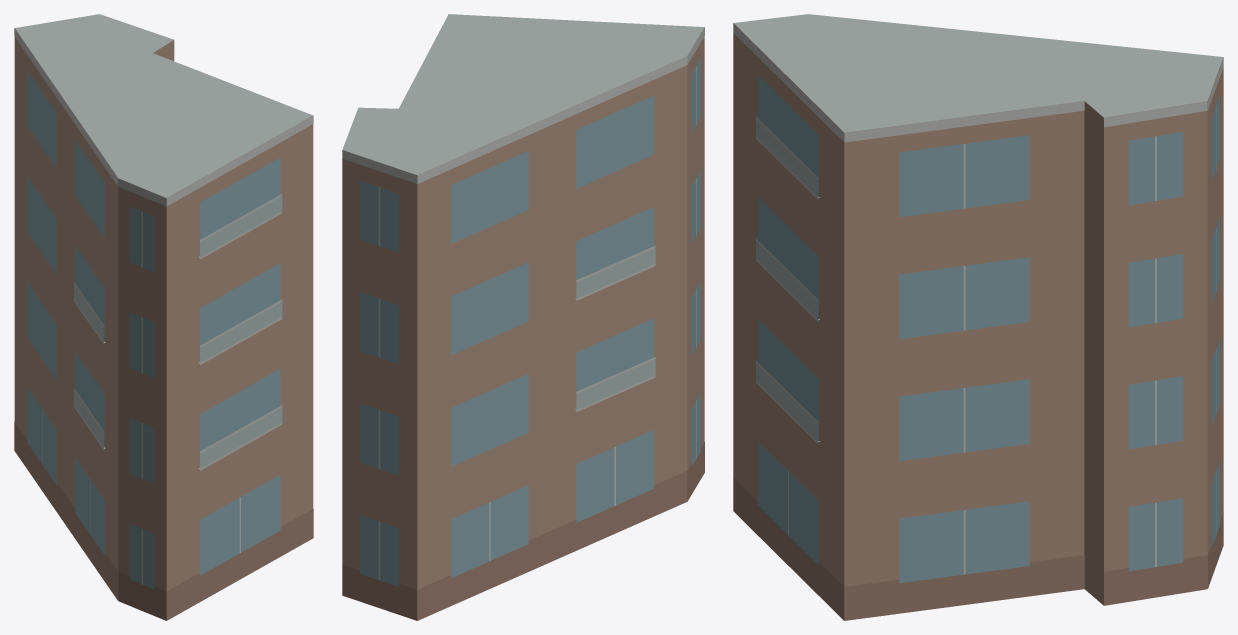
Rendered from survey-upis-32932818.glb.
The picture shows the model from 3 angles, left to right: view 1: azimuth 30°, elevation 25°; view 2: azimuth 150°, elevation 25°; view 3: azimuth 270°, elevation 25°; orthographic projection. The views are drawn at different scales.
Parts seen in each view (by area): view 1: survey-upis-32932818.tmp; view 2: survey-upis-32932818.tmp; view 3: survey-upis-32932818.tmp.
Boxes of the visible parts, <box> form: survey-upis-32932818.tmp: <box>14,14,313,620</box>; survey-upis-32932818.tmp: <box>342,14,704,620</box>; survey-upis-32932818.tmp: <box>733,14,1223,620</box>.
Bounding box in the file's own units: 6.37 × 12.2 × 11.11.
